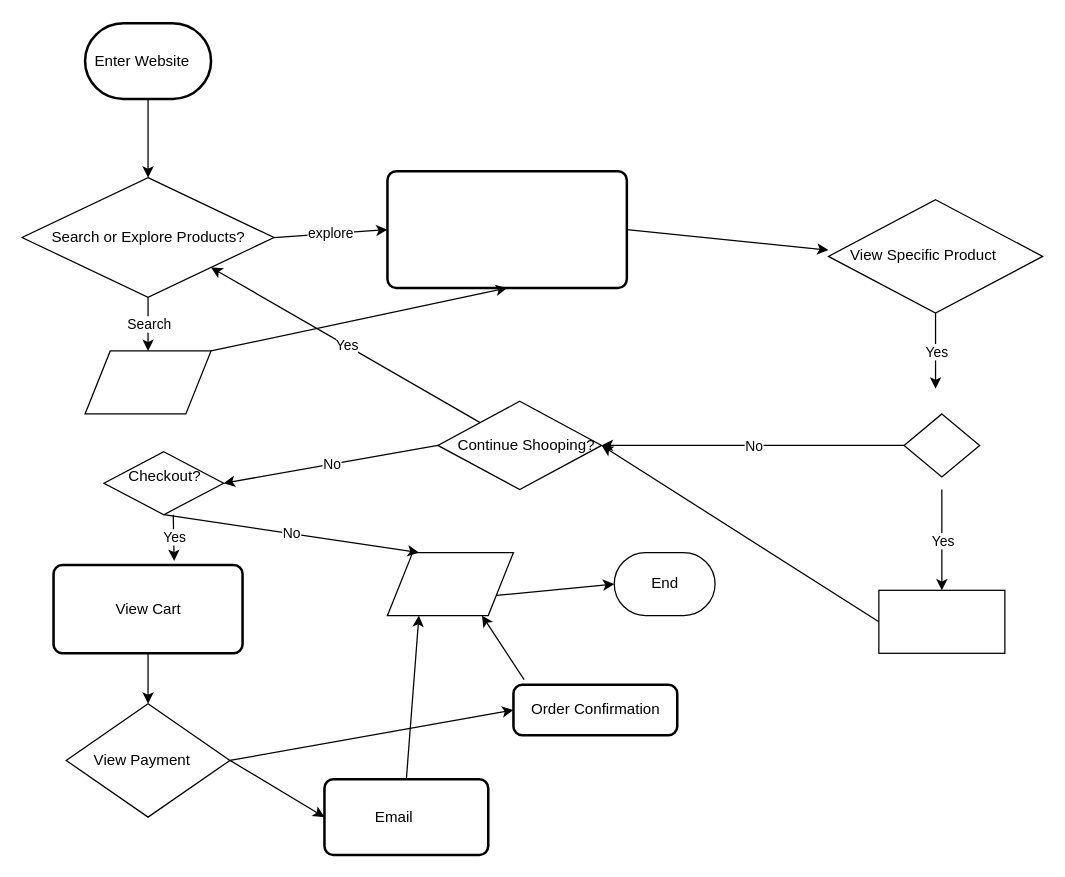
This 1065x877 diagram has some shape labels left out. Each missing label, with the box of its shape:
add?: (903, 413, 980, 477)
Added to Cart: (878, 589, 1005, 653)
Leave Website: (386, 551, 513, 616)
Product Search: (84, 350, 211, 414)
Products: (386, 169, 627, 289)
